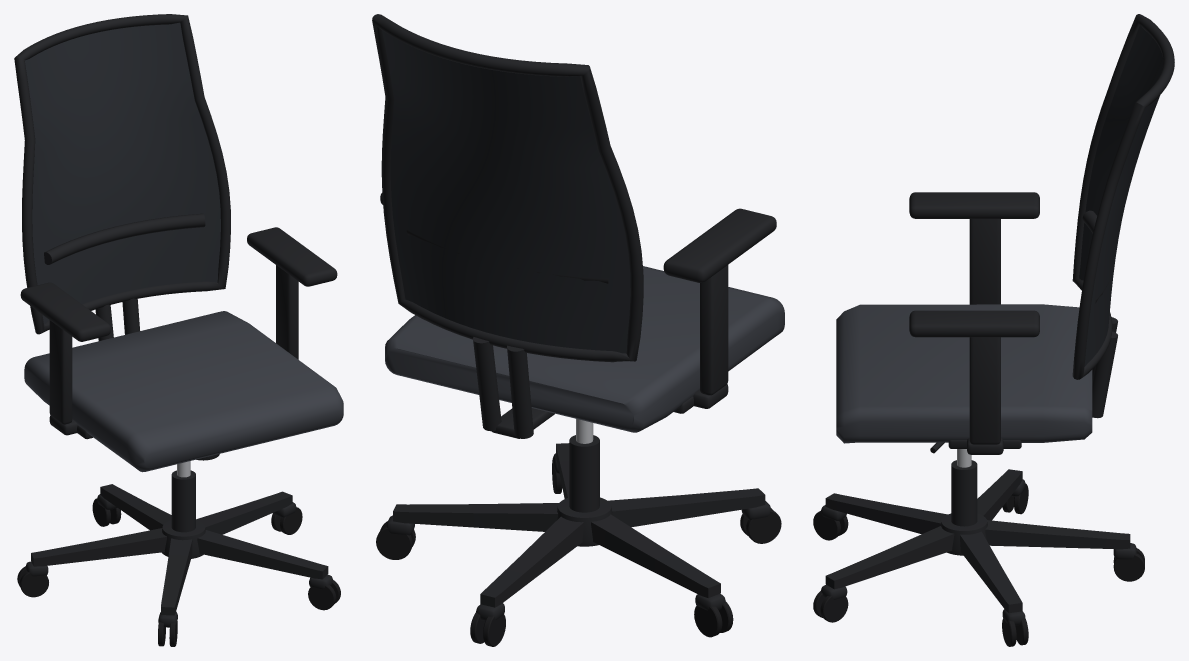
File: office-task-chair.glb
3 renders of one model, left to right at view 1: azimuth 30°, elevation 25°; view 2: azimuth 150°, elevation 25°; view 3: azimuth 270°, elevation 25°, orthographic. The views are drawn at different scales.
Parts seen in each view (by area): view 1: Mesh back panel, Seat cushion, Back frame, lumbar support and back posts, Five-star base, Height-adjustable armrests, Caster wheels (60 mm), Column sleeve, Caster housings; view 2: Mesh back panel, Seat cushion, Five-star base, Back frame, lumbar support and back posts, Height-adjustable armrests, Caster wheels (60 mm), Column sleeve, Caster housings, Tilt mechanism, spine and levers; view 3: Seat cushion, Height-adjustable armrests, Five-star base, Mesh back panel, Back frame, lumbar support and back posts, Caster wheels (60 mm), Column sleeve, Caster housings.
Boxes of the visible parts, left/top/right/bottom form: Mesh back panel: left=24, top=22, right=220, bottom=324; Seat cushion: left=24, top=311, right=343, bottom=472; Back frame, lumbar support and back posts: left=14, top=14, right=230, bottom=340; Five-star base: left=31, top=484, right=328, bottom=615; Height-adjustable armrests: left=20, top=227, right=337, bottom=439; Caster wheels (60 mm): left=17, top=498, right=340, bottom=646; Column sleeve: left=171, top=470, right=195, bottom=532; Caster housings: left=25, top=494, right=332, bottom=627; Mesh back panel: left=382, top=30, right=630, bottom=353; Seat cushion: left=385, top=266, right=784, bottom=432; Five-star base: left=393, top=443, right=765, bottom=607; Back frame, lumbar support and back posts: left=372, top=14, right=643, bottom=438; Height-adjustable armrests: left=380, top=193, right=776, bottom=413; Caster wheels (60 mm): left=376, top=460, right=781, bottom=646; Column sleeve: left=569, top=435, right=599, bottom=512; Caster housings: left=386, top=453, right=771, bottom=620; Tilt mechanism, spine and levers: left=492, top=408, right=554, bottom=438; Seat cushion: left=836, top=304, right=1092, bottom=443; Height-adjustable armrests: left=909, top=192, right=1039, bottom=454; Five-star base: left=825, top=469, right=1130, bottom=613; Mesh back panel: left=1079, top=25, right=1163, bottom=366; Back frame, lumbar support and back posts: left=1072, top=14, right=1174, bottom=418; Caster wheels (60 mm): left=813, top=483, right=1144, bottom=646; Column sleeve: left=951, top=460, right=977, bottom=526; Caster housings: left=821, top=479, right=1136, bottom=625.
Size of the model in its own units: 0.668 by 1.1 by 0.6922.
Materials: 5 (5 with a texture image).
